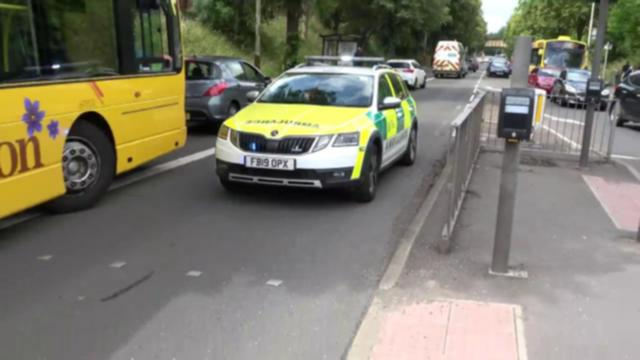police_car: (214, 60, 422, 202)
